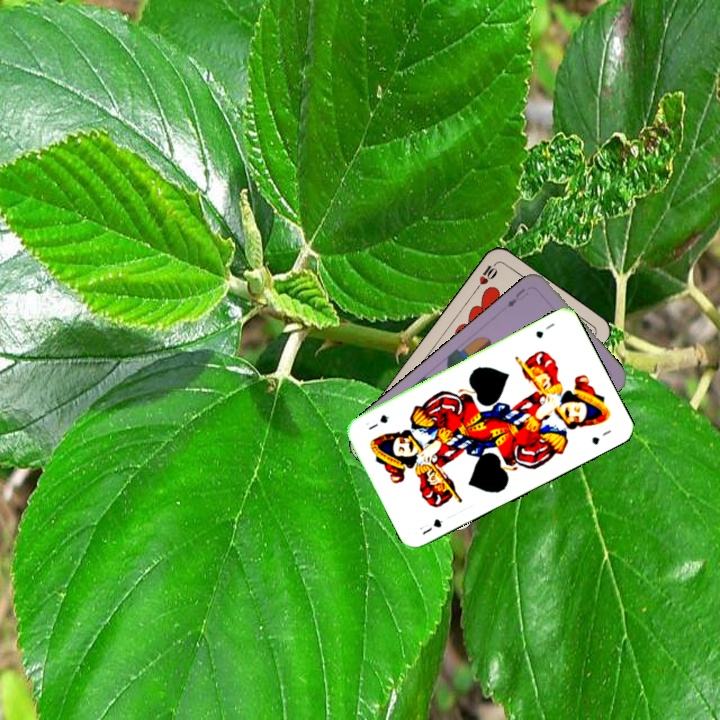EU: (503, 284, 531, 310)
GU: (415, 515, 445, 537), (532, 319, 557, 341)
H10: (471, 258, 500, 293)
